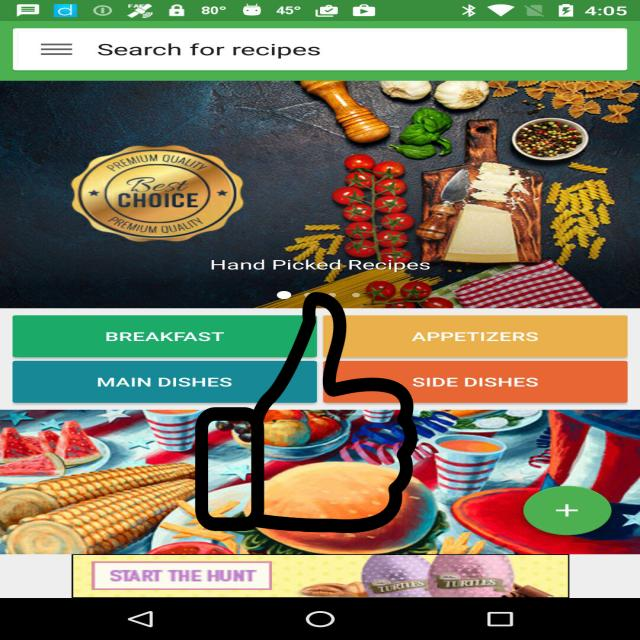privacy zuckering: (192, 292, 421, 533)
